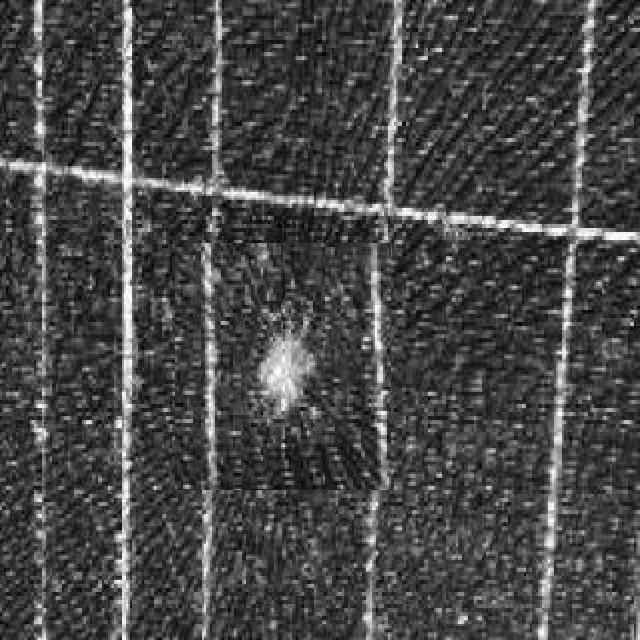Physical-damage: (176, 243, 392, 490)
